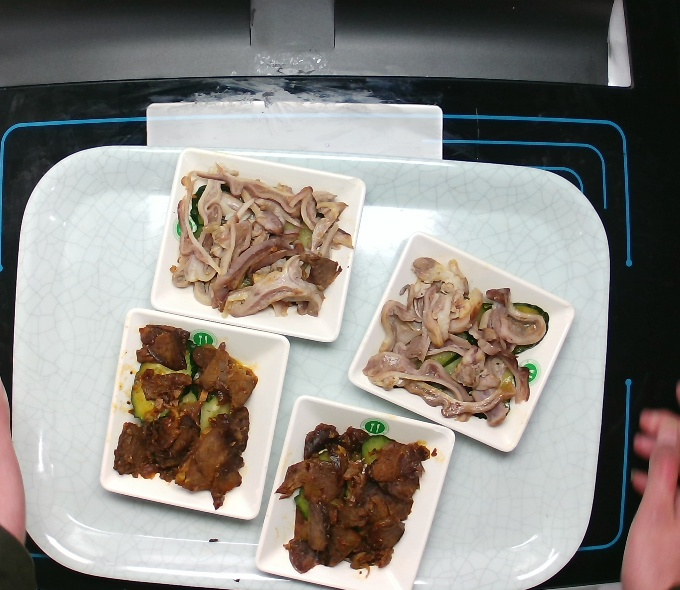wcq-JiangNiuRou: (108, 317, 262, 519), (271, 419, 440, 589)
wcq-ZhuDu: (356, 252, 553, 431), (163, 156, 357, 324)
